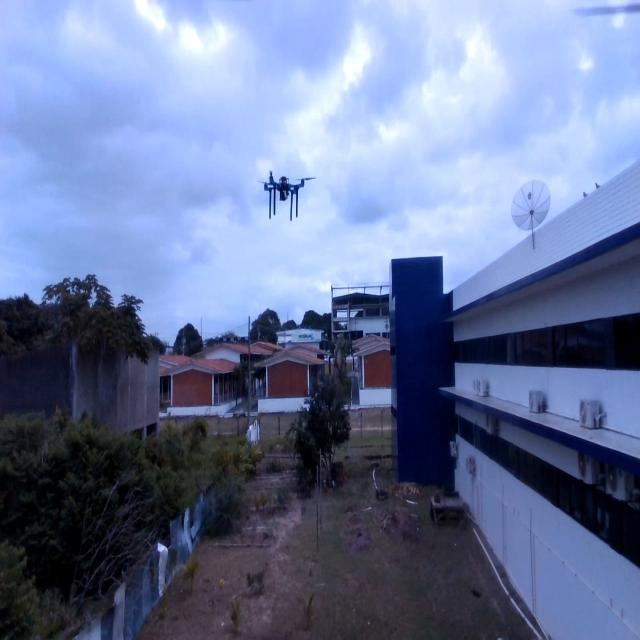-uav-: (256, 160, 316, 228)
